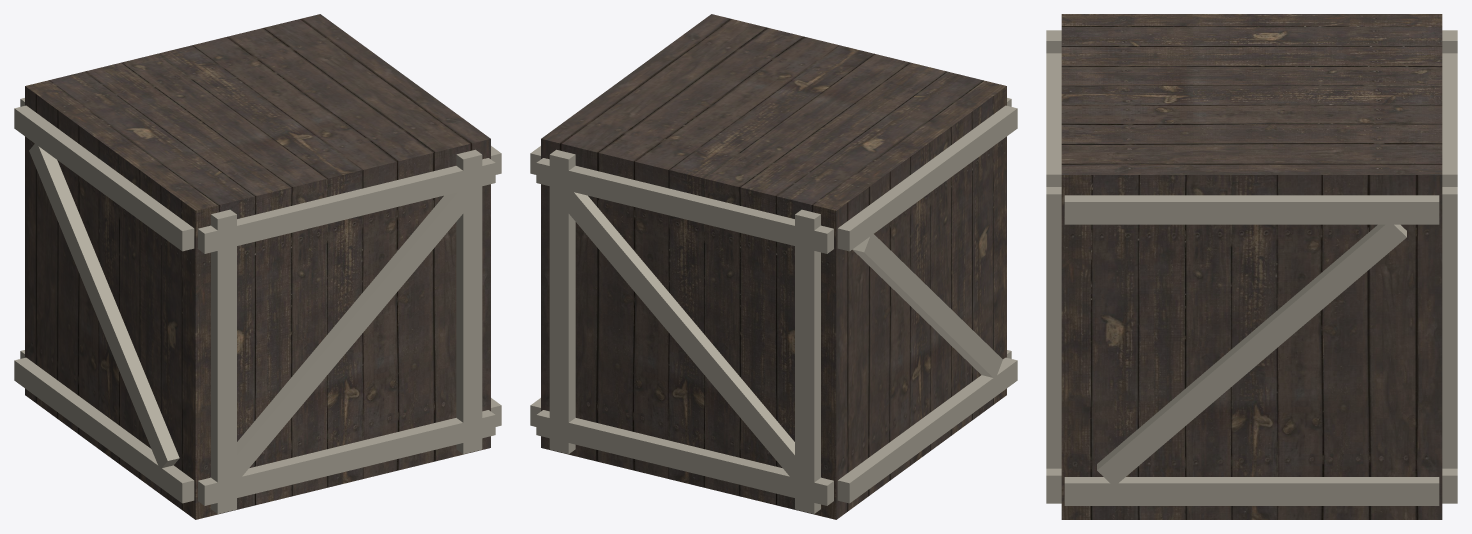
Rendered from cargo_crate.glb.
3 renders of one model, left to right at view 1: azimuth 30°, elevation 25°; view 2: azimuth 150°, elevation 25°; view 3: azimuth 270°, elevation 25°, orthographic. The views are drawn at different scales.
Parts seen in each view (by area): view 1: Crate_wood_body, Crate_reinforcement_planks_separate; view 2: Crate_wood_body, Crate_reinforcement_planks_separate; view 3: Crate_wood_body, Crate_reinforcement_planks_separate.
Part boxes in pixels (bbox=[...]): Crate_wood_body: bbox=[25, 14, 490, 519]; Crate_reinforcement_planks_separate: bbox=[14, 98, 501, 513]; Crate_wood_body: bbox=[541, 14, 1006, 519]; Crate_reinforcement_planks_separate: bbox=[530, 98, 1017, 513]; Crate_wood_body: bbox=[1061, 14, 1442, 519]; Crate_reinforcement_planks_separate: bbox=[1046, 30, 1457, 505].
Size of the model in its own units: 1.41 by 1.3 by 1.41.
Materials: 2 (1 with a texture image).
